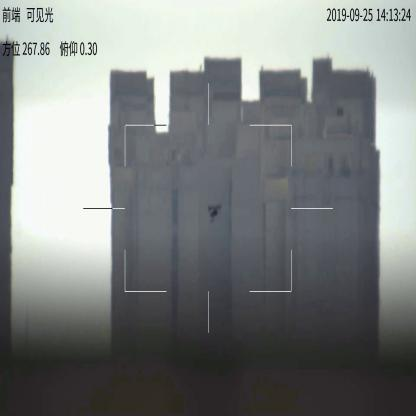uav: (206, 201, 223, 224)
